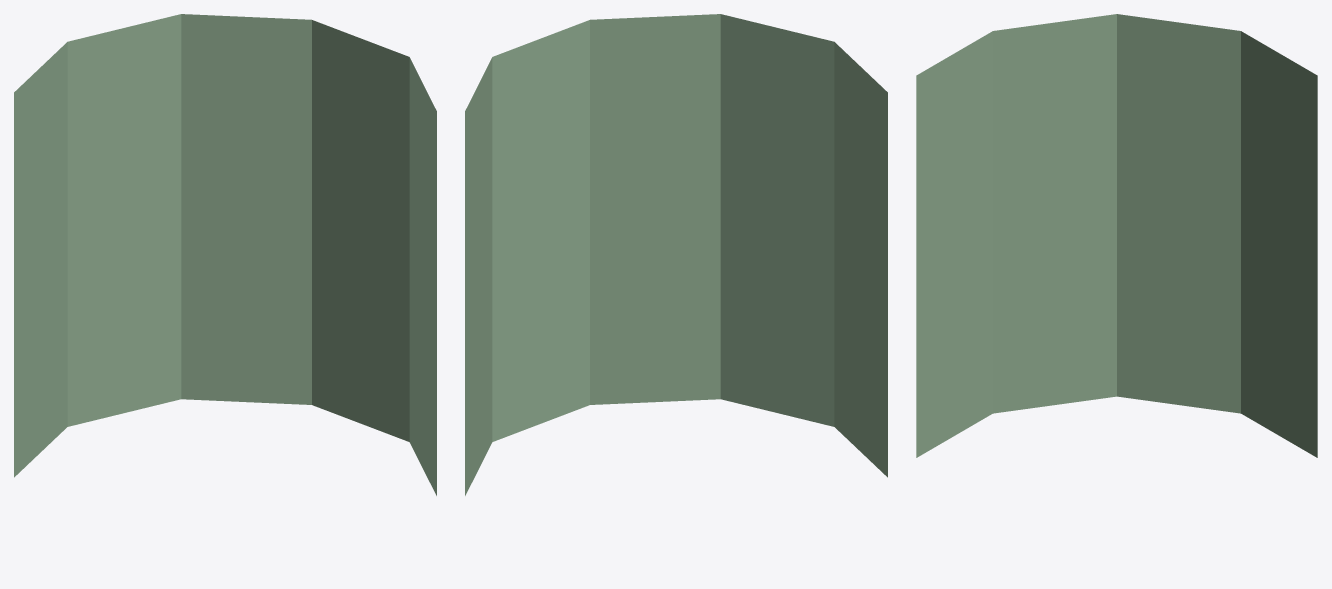
Rendered from bush_round_01.glb.
3 views of the same model, side by side, from view 1: azimuth 30°, elevation 25°; view 2: azimuth 150°, elevation 25°; view 3: azimuth 270°, elevation 25° (orthographic).
Parts seen in each view (by area): view 1: 圆灌木; view 2: 圆灌木; view 3: 圆灌木.
Boxes of the visible parts, x1,y1,x2,y2 form: 圆灌木: (14,14,436,495); 圆灌木: (465,14,887,495); 圆灌木: (916,14,1317,457).
Size of the model in its own units: 1 by 1 by 0.9511.
